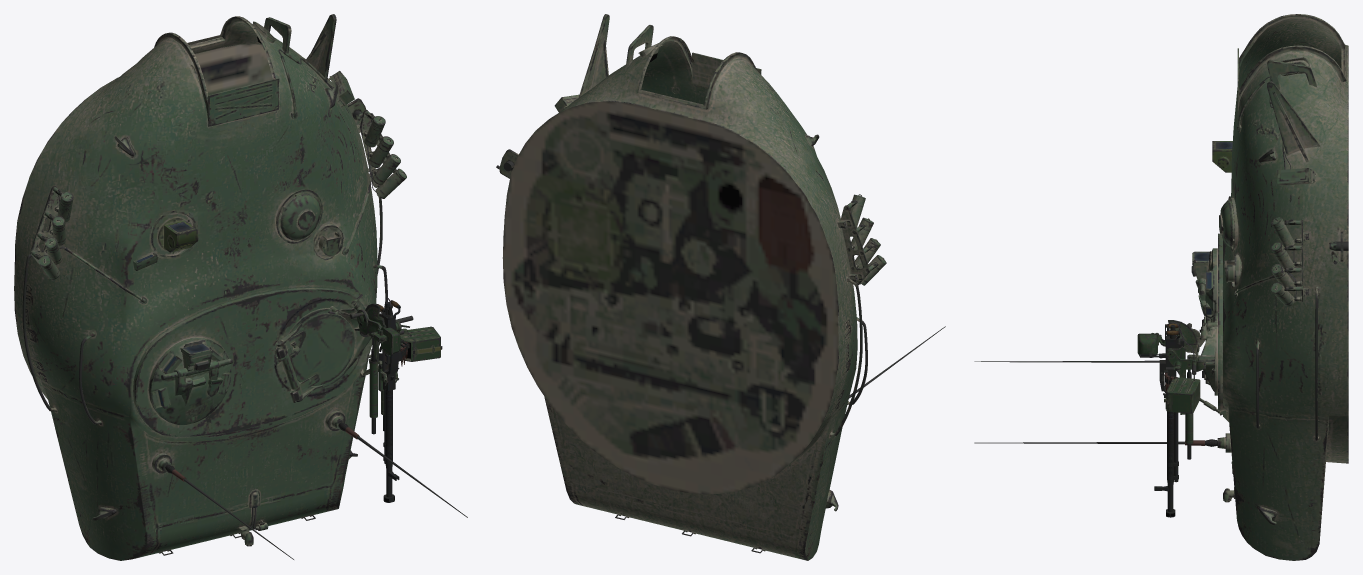
The model's file is Turret_01.glb.
3 views of the same model, side by side, from view 1: azimuth 30°, elevation 25°; view 2: azimuth 150°, elevation 25°; view 3: azimuth 270°, elevation 25° (orthographic). The views are drawn at different scales.
Visible parts, largest first — view 1: set_0_group_0; view 2: set_0_group_0; view 3: set_0_group_0.
Part boxes in pixels (left/top/right/bottom): set_0_group_0: left=14, top=14, right=467, bottom=560; set_0_group_0: left=496, top=14, right=945, bottom=560; set_0_group_0: left=974, top=14, right=1348, bottom=560.
Bounding box in the file's own units: 3.11 × 3.98 × 2.84.
Materials: 1 (1 with a texture image).
